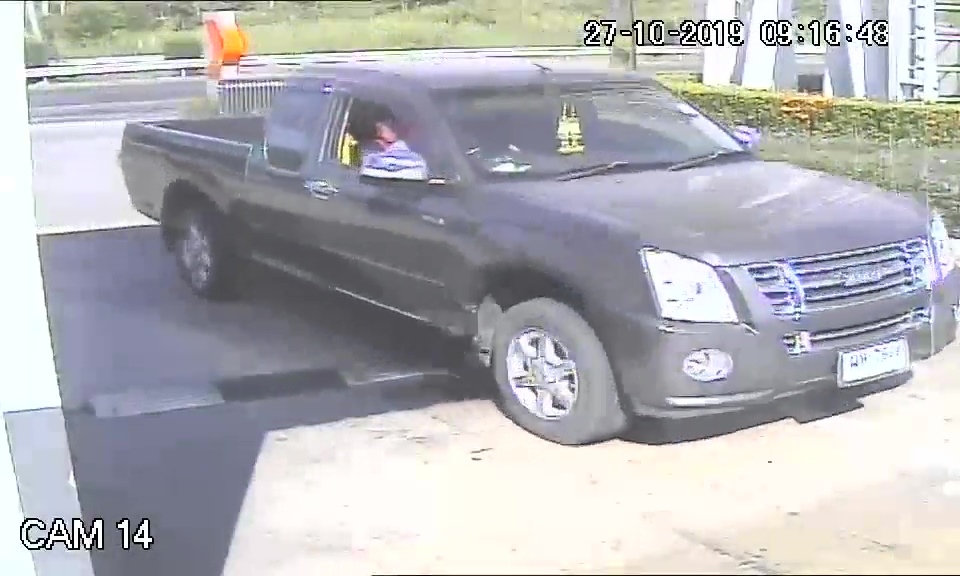pickup: (112, 52, 958, 443)
